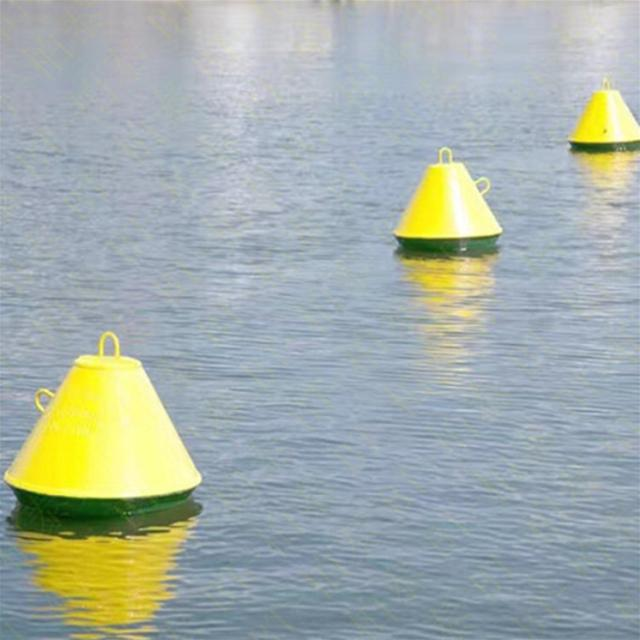buoy: (0, 333, 202, 515), (394, 143, 508, 244), (563, 76, 640, 156)
